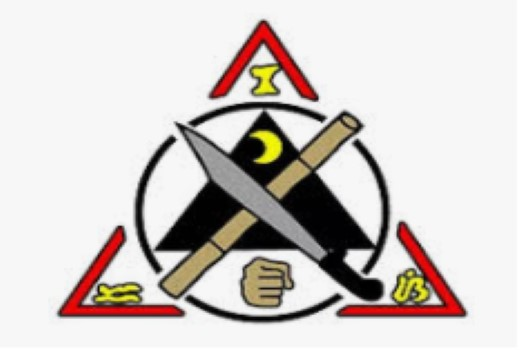baston_e: (188, 115, 335, 296)
baston_v: (333, 102, 365, 135), (151, 273, 183, 305)
